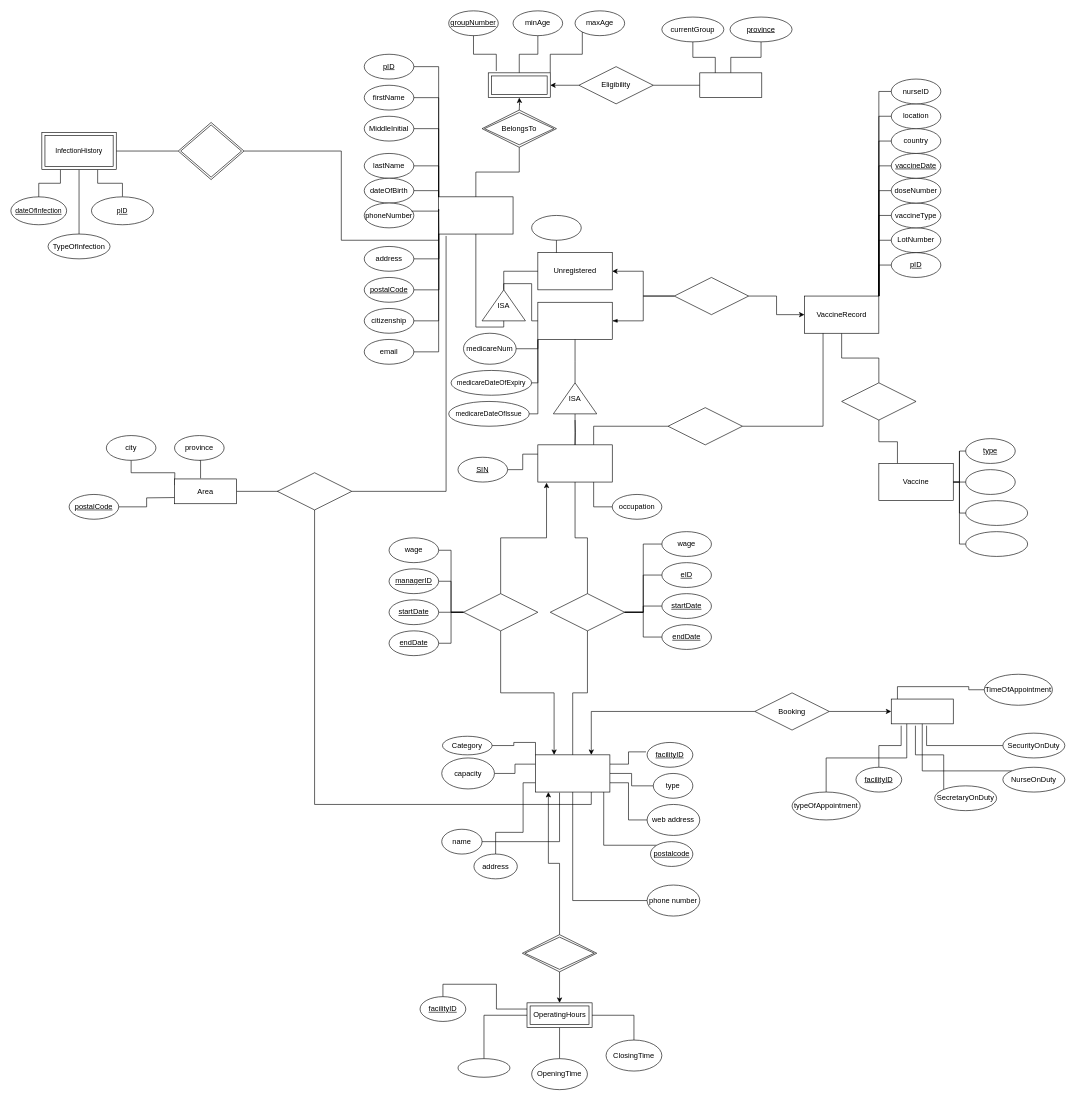
Image size: 1076x1101. Some labels were removed from this diagram. Each missing label, with the centre of its shape:
administers: the point at 704,426
Age Group: the point at 519,85
BookingSlots: the point at 922,711
dateOfApproval: the point at 996,512
dateOfSuspension: the point at 996,543
DayOfWeek: the point at 483,1067
hasBeenVaccinated: the point at 711,296
infectedBy: the point at 211,151
locatedAt: the point at 314,491
manages: the point at 500,612
Operations: the point at 559,953
passportNum: the point at 556,227
Person: the point at 475,215
PublicHealthWorker: the point at 574,463
Registered: the point at 574,320
status: the point at 990,481
Uses: the point at 878,401
Vaccination Facility: the point at 572,773
VaccineGroup: the point at 730,85
worksAt: the point at 587,612
